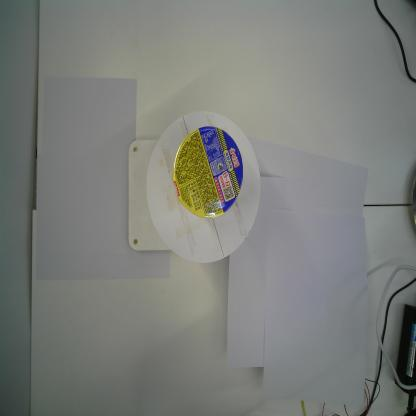Instant Noodles: (172, 126, 244, 218)
